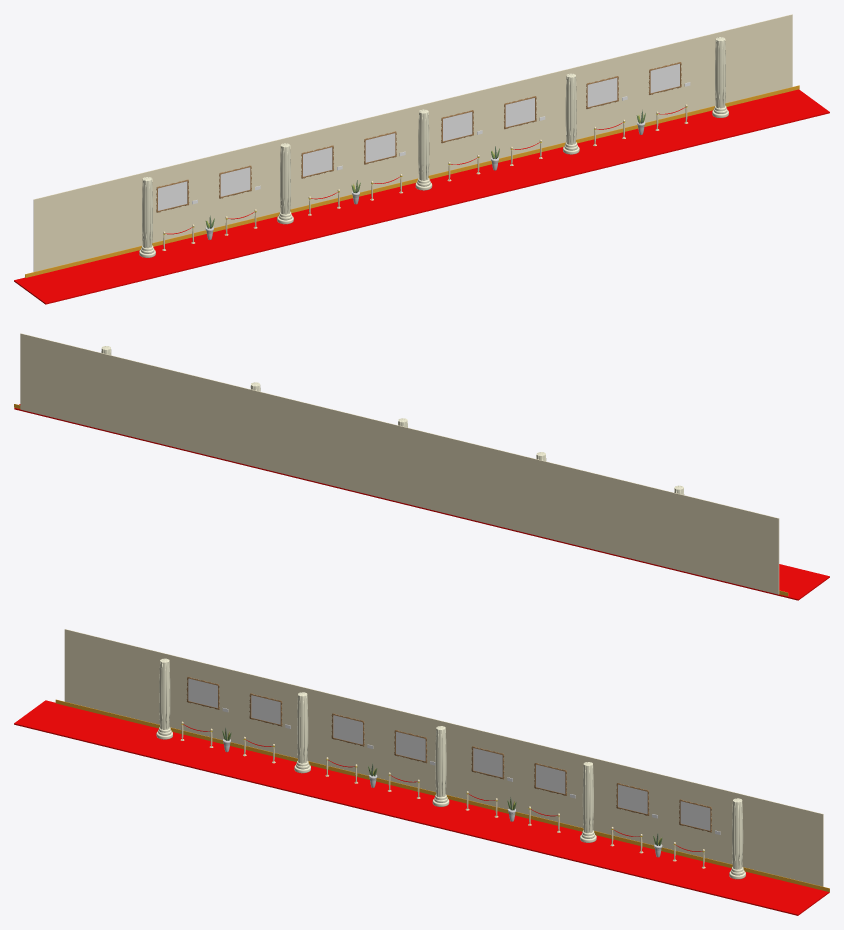
The model's file is 갤러리수정.fbx.
The picture shows the model from 3 angles, top to bottom: view 1: azimuth 30°, elevation 25°; view 2: azimuth 150°, elevation 25°; view 3: azimuth 330°, elevation 25°; orthographic projection.
Parts seen in each view (by area): view 1: 벽, 바닥1, 벽하단, 기둥3, 기둥4, 기둥2, 기둥1, 기둥5, 액자1, 액자2, 그림4, 그림7 (+7 smaller); view 2: 벽, 바닥1; view 3: 벽, 바닥1, 벽하단, 기둥1, 기둥3, 기둥2, 기둥5, 기둥4, 액자1, 액자2, 그림8, 그림3 (+8 smaller).
Boxes of the visible parts, x1,y1,x2,y2 form: 벽: [33, 14, 792, 271]; 바닥1: [14, 89, 829, 304]; 벽하단: [25, 85, 799, 277]; 기둥3: [415, 109, 432, 190]; 기둥4: [563, 73, 579, 154]; 기둥2: [277, 143, 293, 224]; 기둥1: [139, 177, 155, 257]; 기둥5: [712, 37, 728, 117]; 액자1: [156, 131, 396, 212]; 액자2: [441, 62, 681, 143]; 그림4: [365, 133, 395, 162]; 그림7: [587, 78, 617, 107]; 벽: [20, 333, 779, 594]; 바닥1: [14, 404, 829, 600]; 벽: [64, 629, 823, 886]; 바닥1: [14, 700, 829, 915]; 벽하단: [55, 699, 829, 892]; 기둥1: [156, 658, 172, 739]; 기둥3: [432, 726, 449, 806]; 기둥2: [294, 692, 310, 773]; 기둥5: [729, 798, 745, 879]; 기둥4: [580, 762, 596, 842]; 액자1: [186, 676, 427, 763]; 액자2: [471, 746, 711, 832]; 그림8: [680, 801, 710, 830]; 그림3: [333, 715, 362, 744].
Bounding box in the file's own units: 254 × 23.87 × 17.72.
